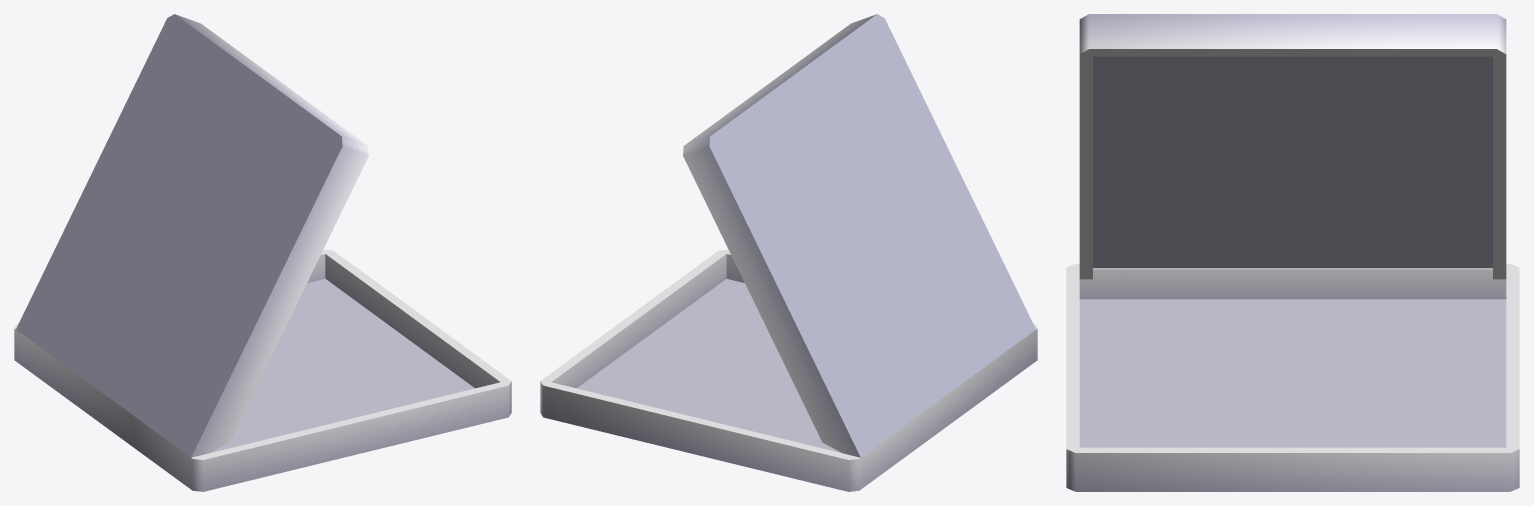
Rendered from pizza-box.glb.
The picture shows the model from 3 angles, left to right: view 1: azimuth 30°, elevation 25°; view 2: azimuth 150°, elevation 25°; view 3: azimuth 270°, elevation 25°; orthographic projection. The views are drawn at different scales.
Visible parts, largest first — view 1: pizza-box; view 2: pizza-box; view 3: pizza-box.
Boxes of the visible parts, left/top/right/bottom form: pizza-box: left=14, top=14, right=511, bottom=491; pizza-box: left=540, top=14, right=1037, bottom=491; pizza-box: left=1066, top=14, right=1519, bottom=491.
Size of the model in its own units: 0.9418 by 0.8816 by 0.9518.
1 material, 1 textured.
